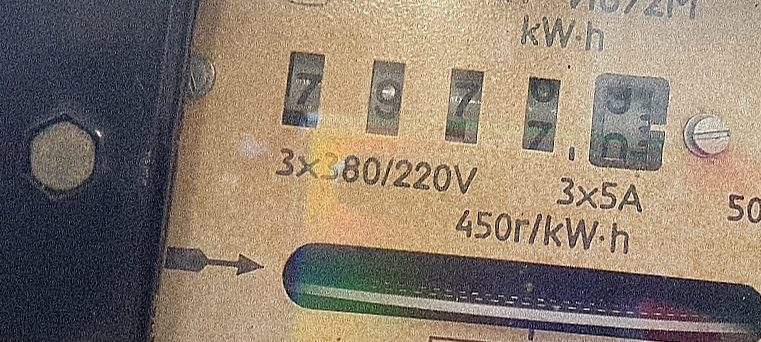0: (596, 126, 631, 167)
7: (447, 77, 481, 122), (289, 68, 322, 113), (521, 117, 554, 154)
9: (368, 75, 405, 122), (601, 79, 635, 117)
screen: (258, 26, 696, 196)
